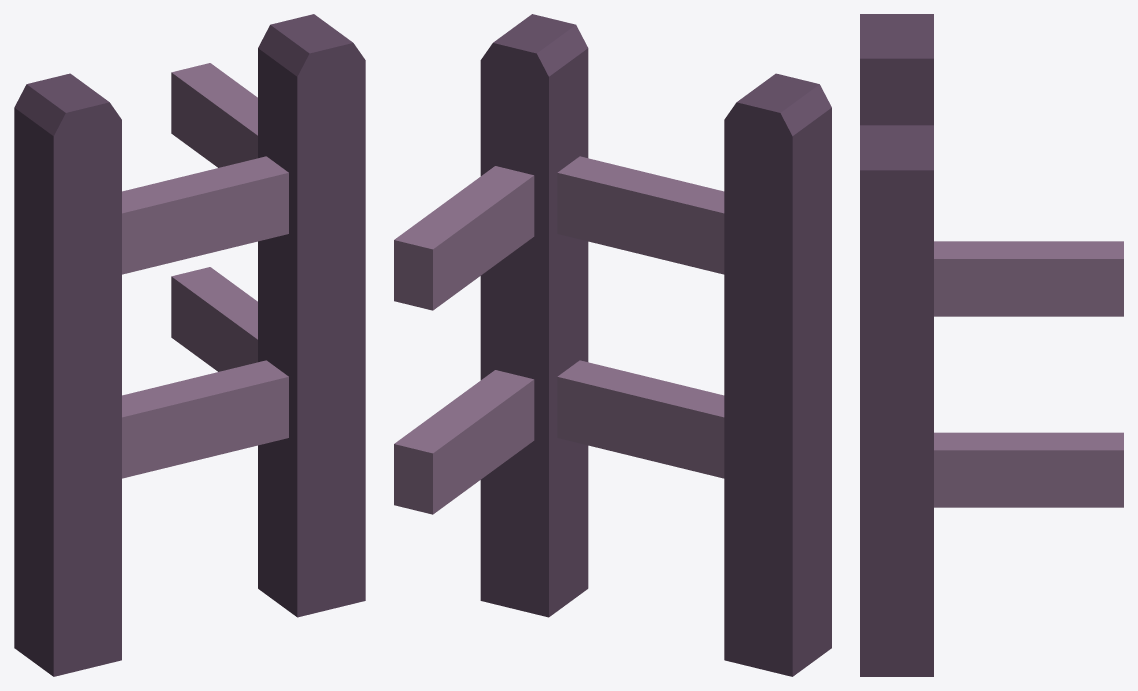
Rendered from TW_WOOD_CORNER_L90_A_LOD0.glb.
The picture shows the model from 3 angles, left to right: view 1: azimuth 30°, elevation 25°; view 2: azimuth 150°, elevation 25°; view 3: azimuth 270°, elevation 25°; orthographic projection. The views are drawn at different scales.
Parts seen in each view (by area): view 1: TW_WOOD_CORNER_L90_A_LOD0; view 2: TW_WOOD_CORNER_L90_A_LOD0; view 3: TW_WOOD_CORNER_L90_A_LOD0.
Boxes of the visible parts, <box> form: TW_WOOD_CORNER_L90_A_LOD0: <box>14,14,365,676</box>; TW_WOOD_CORNER_L90_A_LOD0: <box>394,14,831,676</box>; TW_WOOD_CORNER_L90_A_LOD0: <box>860,14,1123,676</box>.
Bounding box in the file's own units: 0.64 × 1.1 × 0.5.
1 material, 1 textured.
